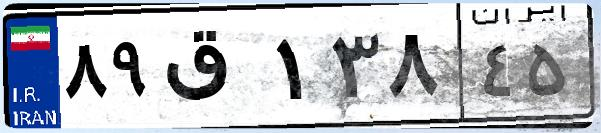1: (270, 28, 330, 110)
3: (330, 28, 385, 110)
4: (475, 38, 525, 113)
5: (525, 38, 570, 115)
8: (385, 28, 445, 110), (57, 26, 110, 100)
9: (110, 28, 158, 98)
ق: (158, 20, 270, 120)
